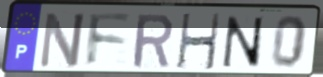0: (271, 13, 309, 72)
F: (85, 12, 133, 70)
H: (175, 12, 222, 72)
N: (37, 10, 88, 70), (221, 15, 264, 70)
R: (131, 12, 175, 70)
